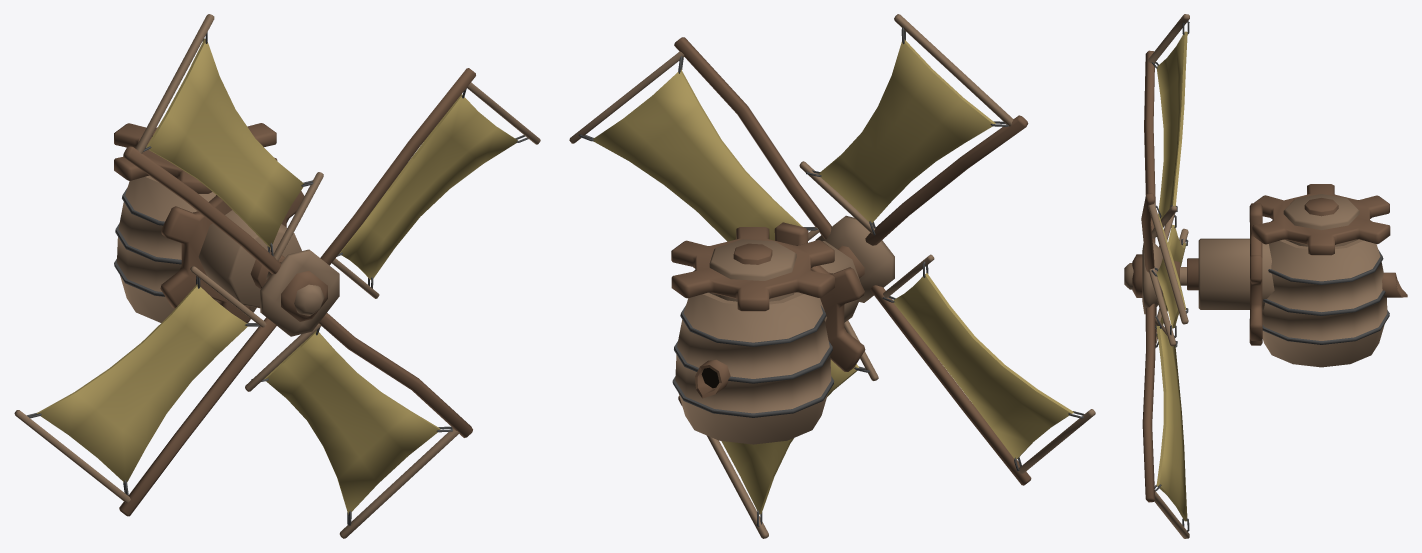
Rendered from Windmill.fbx.
The picture shows the model from 3 angles, left to right: view 1: azimuth 30°, elevation 25°; view 2: azimuth 150°, elevation 25°; view 3: azimuth 270°, elevation 25°; orthographic projection. The views are drawn at different scales.
Parts seen in each view (by area): view 1: Cube.001; view 2: Cube.001; view 3: Cube.001.
Part boxes in pixels (bbox=[...]): Cube.001: bbox=[14, 14, 540, 538]; Cube.001: bbox=[569, 14, 1095, 538]; Cube.001: bbox=[1124, 14, 1407, 538].
Bounding box in the file's own units: 2.71 × 2.74 × 1.5.
